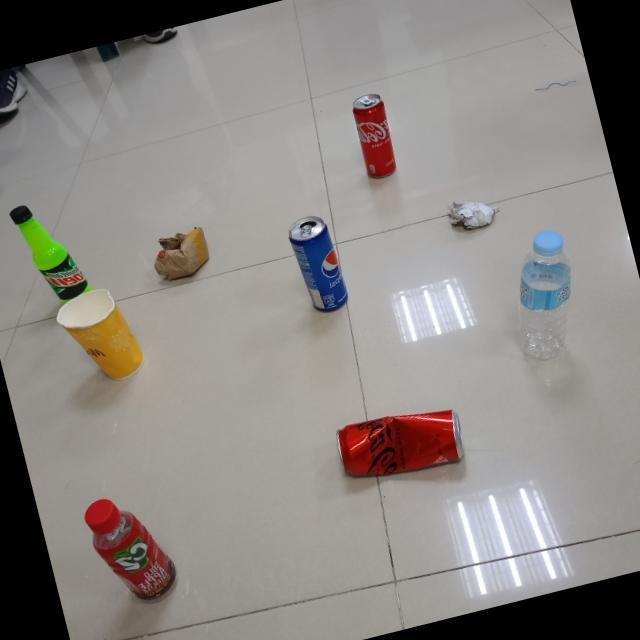recyclable waste: (490, 219, 598, 368), (324, 391, 476, 496), (76, 478, 190, 618), (46, 275, 152, 395), (3, 187, 98, 315), (280, 206, 354, 320), (342, 84, 406, 188), (142, 216, 222, 290), (440, 184, 508, 240)
